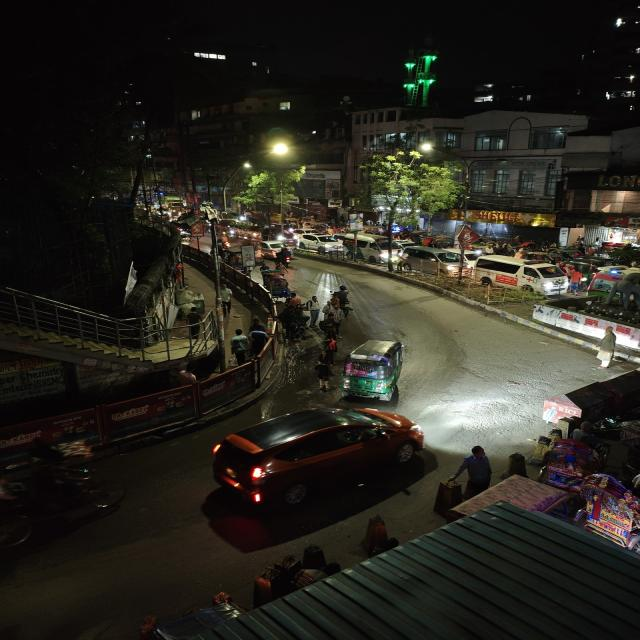car: (198, 400, 435, 510), (471, 254, 572, 296), (396, 244, 476, 280), (294, 232, 344, 254)
cng: (340, 336, 413, 404)
motorcycle: (328, 282, 357, 318), (275, 246, 297, 268)
pedestrian: (458, 442, 496, 493), (592, 329, 624, 369), (310, 351, 337, 393), (227, 329, 250, 365), (317, 314, 344, 342), (247, 317, 267, 353), (302, 295, 321, 328)
rickshaw: (530, 429, 605, 489)
